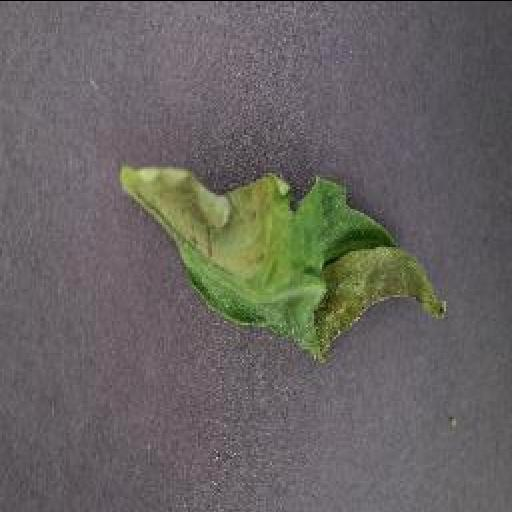disease_tomato: (113, 163, 447, 361)
